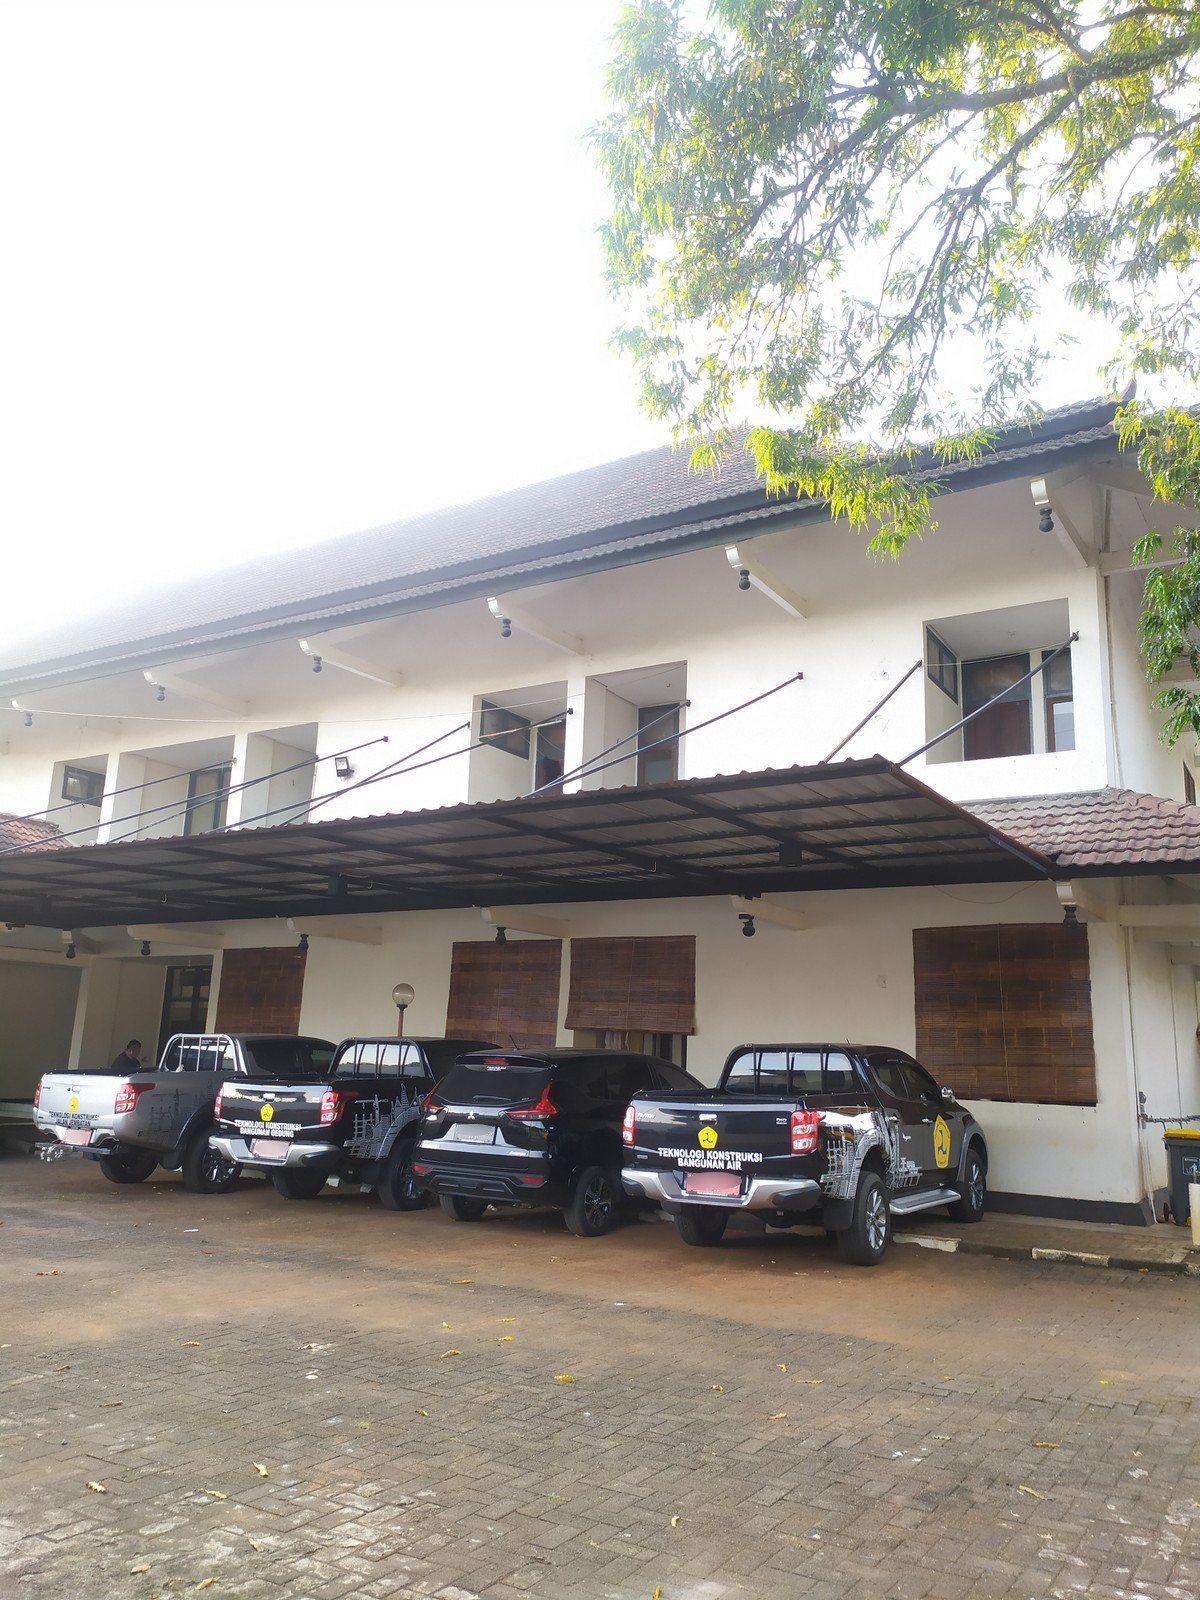concrete beam: (174, 678, 255, 722), (328, 653, 408, 692), (521, 614, 587, 659), (313, 917, 387, 949), (507, 911, 576, 942), (153, 927, 228, 952)
